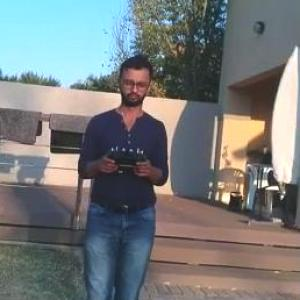follow: (70, 46, 173, 299)
